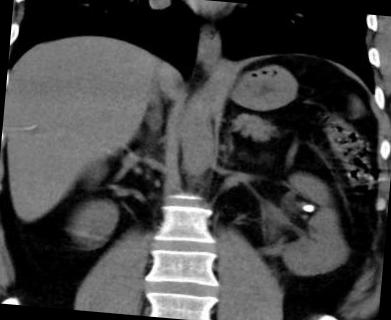Tas_Var: (302, 202, 314, 215)
